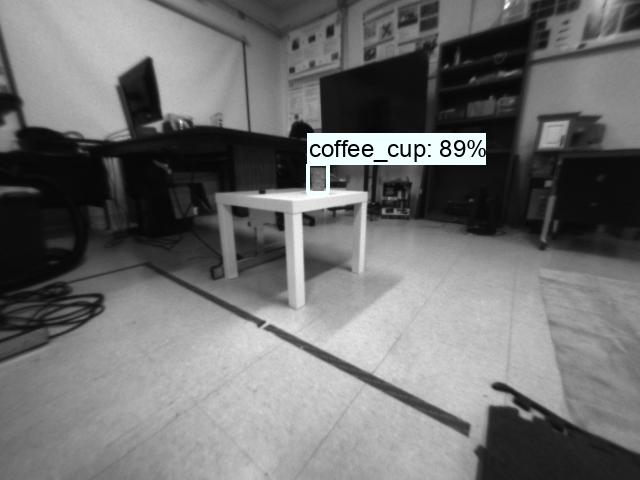coffee_cup: (308, 164, 329, 195)
